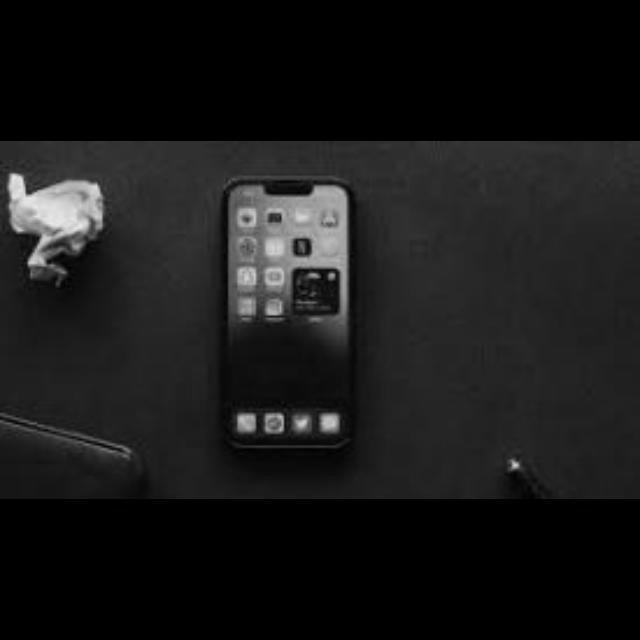fake: (176, 158, 382, 468)
